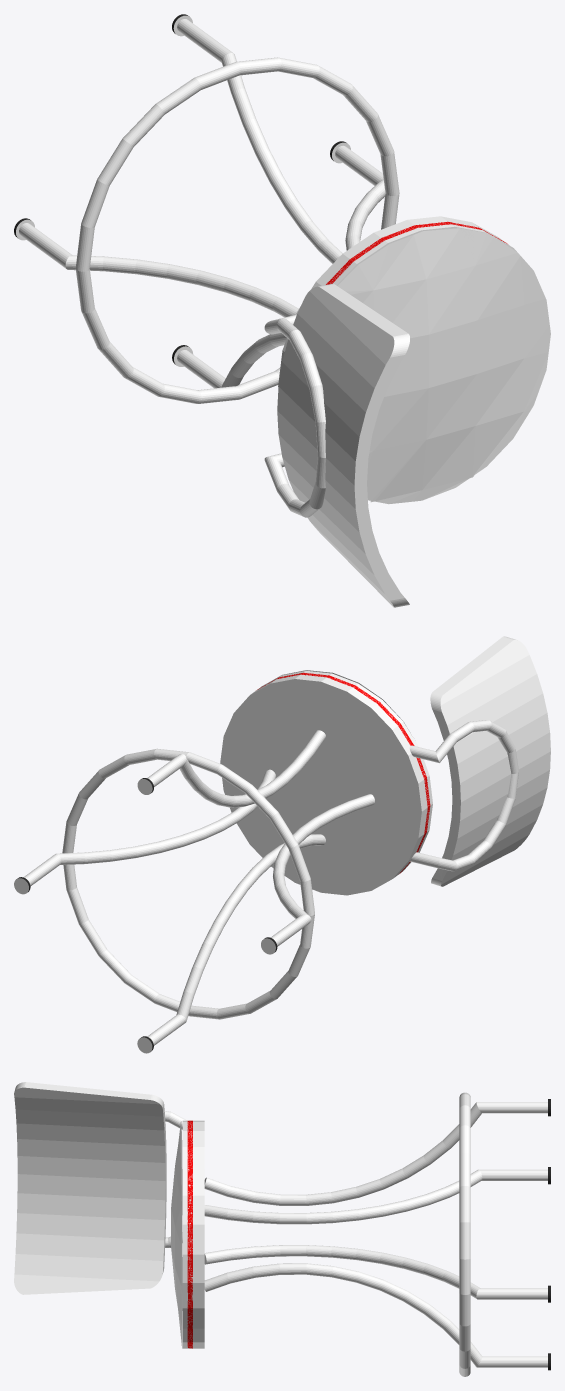
The picture shows the model from 3 angles, top to bottom: view 1: azimuth 30°, elevation 25°; view 2: azimuth 150°, elevation 25°; view 3: azimuth 270°, elevation 25°; orthographic projection. The views are drawn at different scales.
Visible parts, largest first — view 1: a bar stool; view 2: a bar stool; view 3: a bar stool.
Boxes of the visible parts, x1=… form: a bar stool: x1=14, y1=14, x2=550, y2=607; a bar stool: x1=14, y1=636, x2=550, y2=1053; a bar stool: x1=14, y1=1082, x2=550, y2=1376.
Size of the model in its own units: 26.43 by 25.99 by 46.89.
